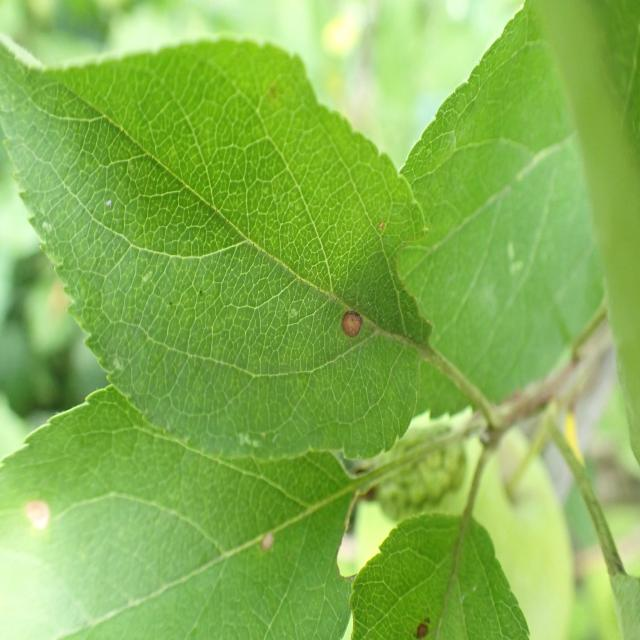Black Rot: (333, 300, 365, 370)
